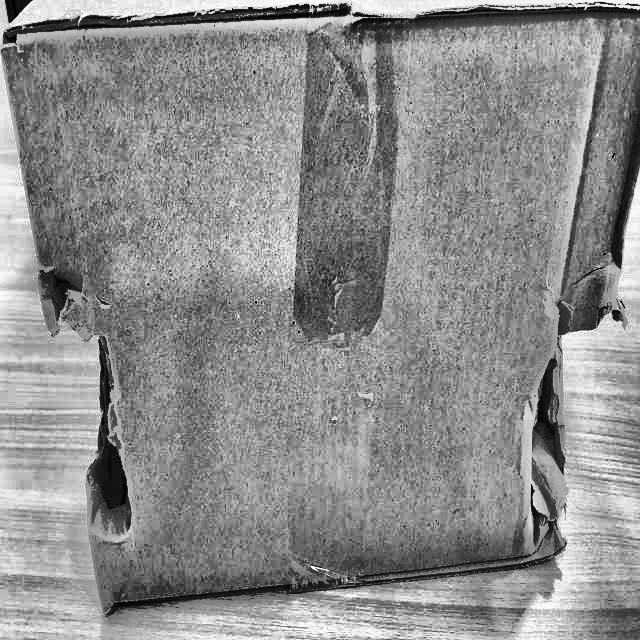box: (0, 0, 639, 627)
hole: (36, 254, 143, 535), (514, 280, 614, 558)
